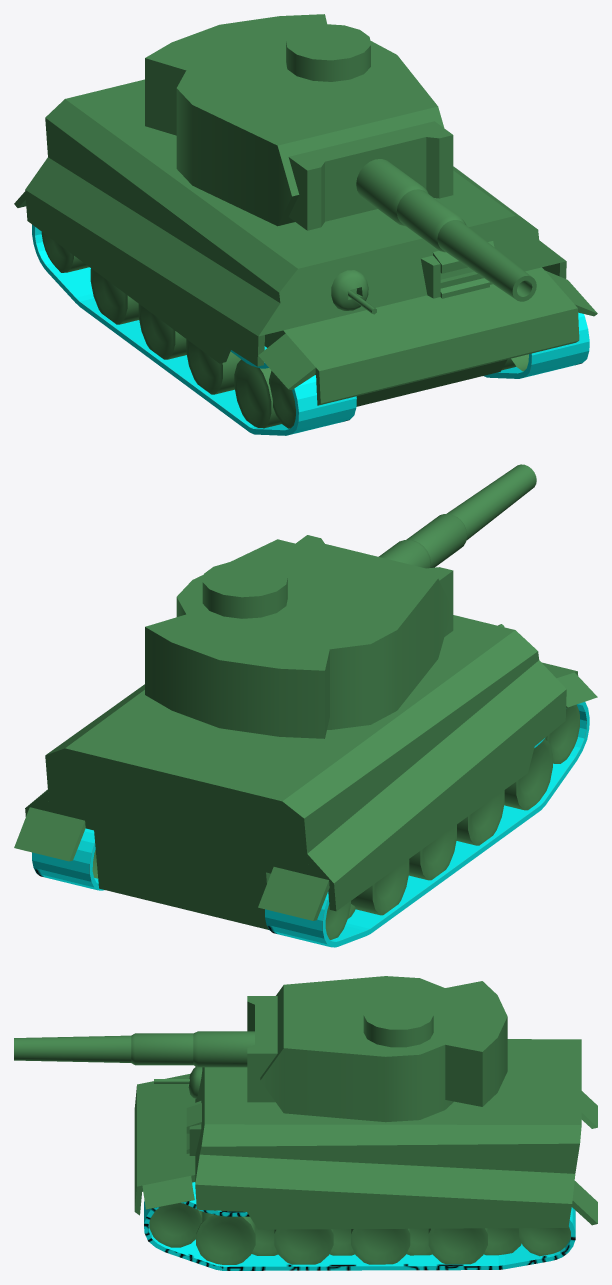
File: tank_alt.gltf
The picture shows the model from 3 angles, top to bottom: view 1: azimuth 30°, elevation 25°; view 2: azimuth 150°, elevation 25°; view 3: azimuth 270°, elevation 25°; orthographic projection. The views are drawn at different scales.
Parts seen in each view (by area): view 1: Body; view 2: Body; view 3: Body.
Boxes of the visible parts, x1,y1,x2,y2 form: Body: (14, 14, 597, 435); Body: (14, 464, 597, 947); Body: (14, 976, 597, 1270).
Size of the model in its own units: 4.21 by 3.45 by 8.5.
Materials: 1 (1 with a texture image).
